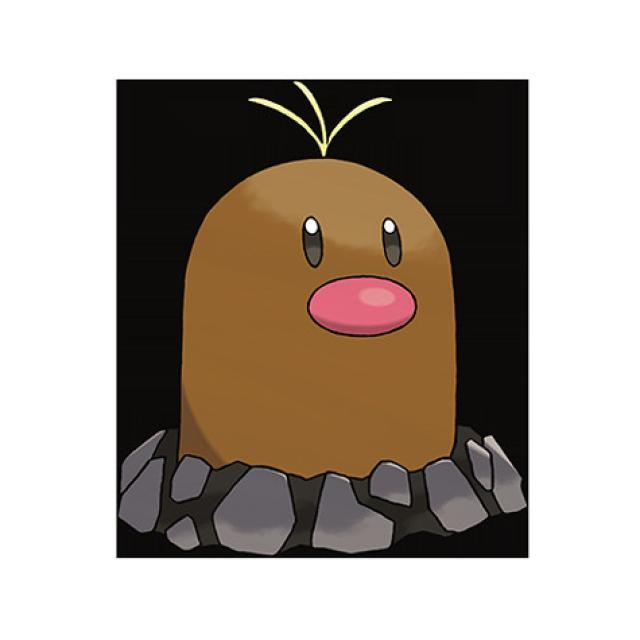Diglett: (185, 156, 454, 486)
